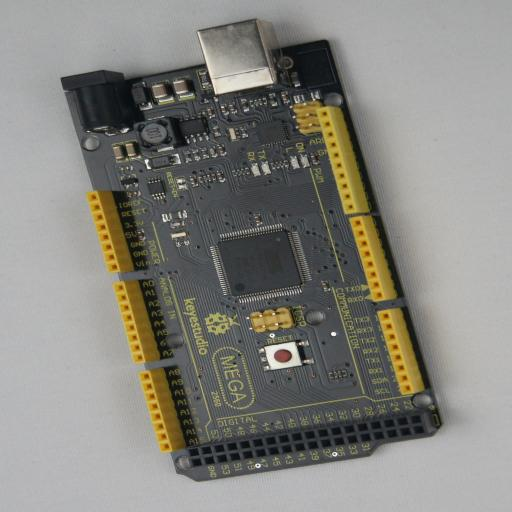Arduino Mega 2560 -Black and Yellow-: (60, 18, 446, 482)
